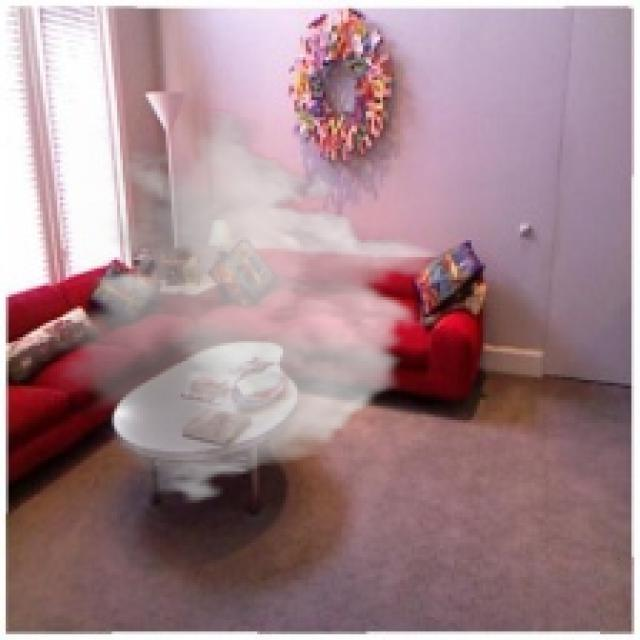Smoke: (48, 108, 446, 506)
